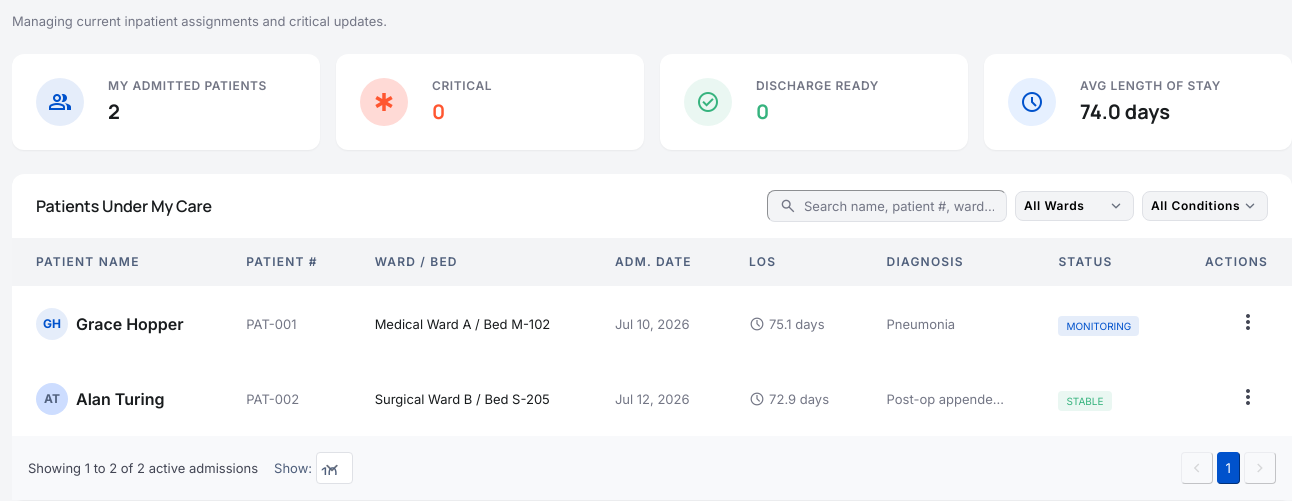
Test case: InpatientPage › filters inpatient list by search query
Expected: the text "Grace Hopper" is shown, x1=76 y1=314 x2=184 y2=334
Type "Alan" into the field with placeholder "Search name, patient #, ward...".
click(887, 206); type("Alan")  # box x1=767 y1=190 x2=1007 y2=222
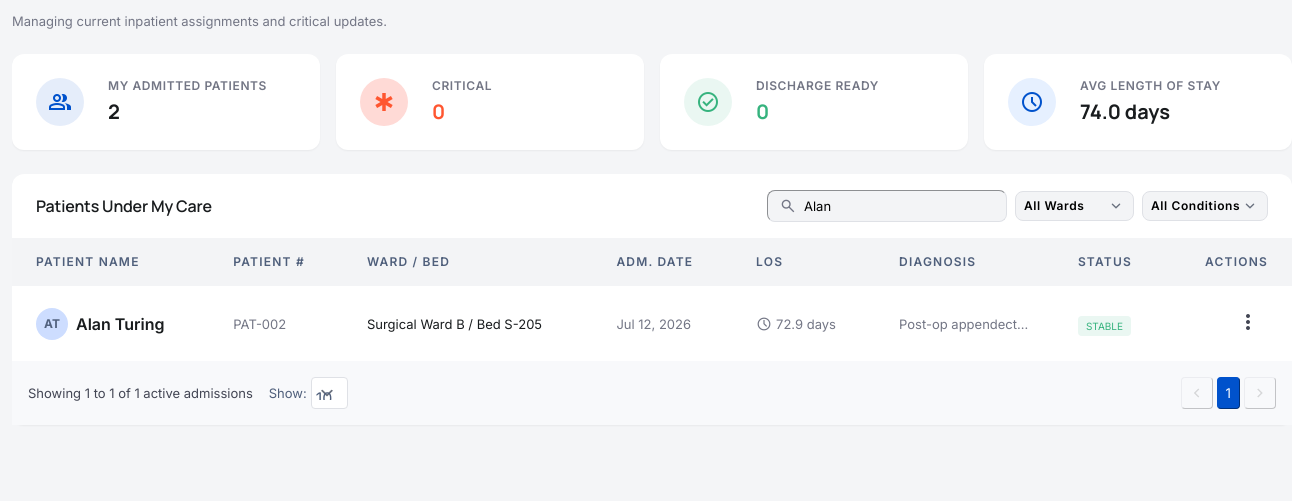
Expected: the text "Alan Turing" is shown, x1=76 y1=314 x2=164 y2=334
Expected: the text "Grace Hopper" is gone
